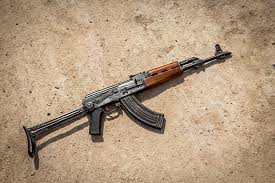Arma Real: (23, 42, 233, 156)
